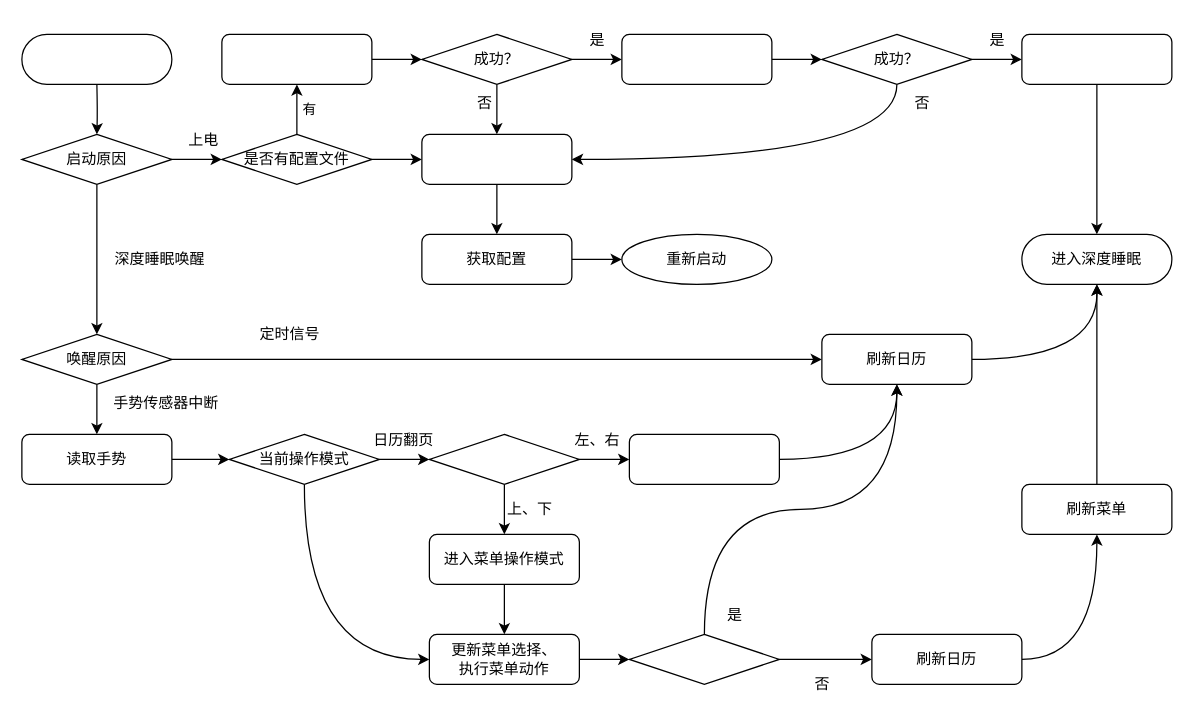
Image size: 1194x724. Some labels were removed from this diagram. Here are the shapes that lost their labels. From the top down, the box of each, then its label:
(21, 33, 172, 84): 启动
(221, 33, 372, 84): 连接WiFi
(621, 33, 772, 84): 获取日历
(1021, 33, 1172, 84): 渲染日历
(421, 133, 572, 184): 启动HTTP服务器 提示用户修改配置
(428, 433, 579, 484): 手势
(628, 433, 779, 484): 修改日历显示时间范围
(628, 633, 779, 684): 退出菜单？
